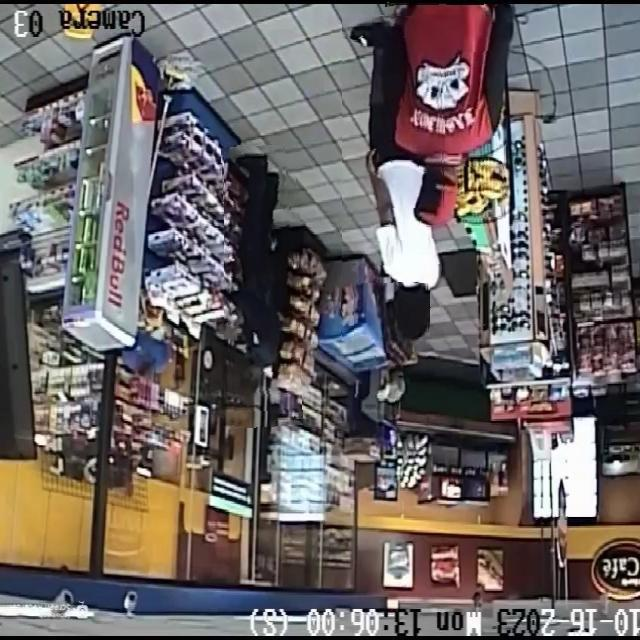Normal: (342, 15, 445, 341), (385, 0, 507, 218), (224, 145, 300, 428), (354, 282, 430, 420)
